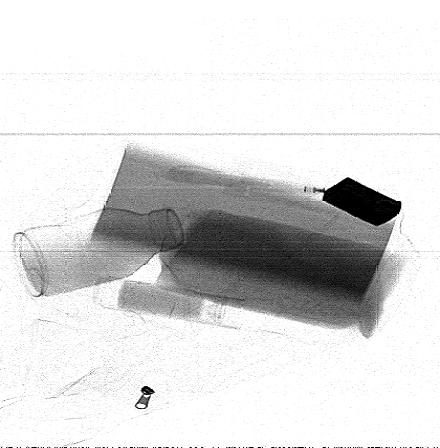Lighter: (321, 177, 402, 229)
